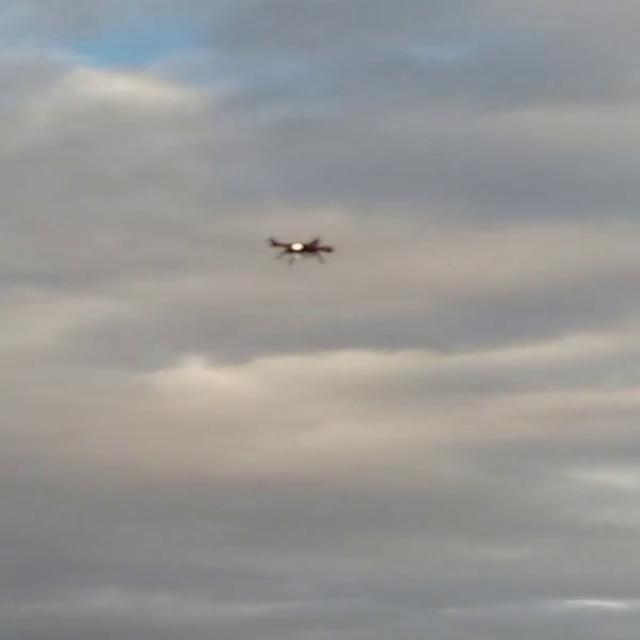drone: (262, 231, 342, 266)
